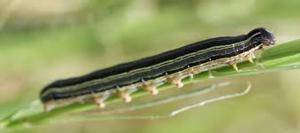fallarmy_worm: (32, 23, 292, 111)
